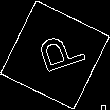P_W: (25, 29, 85, 81)
